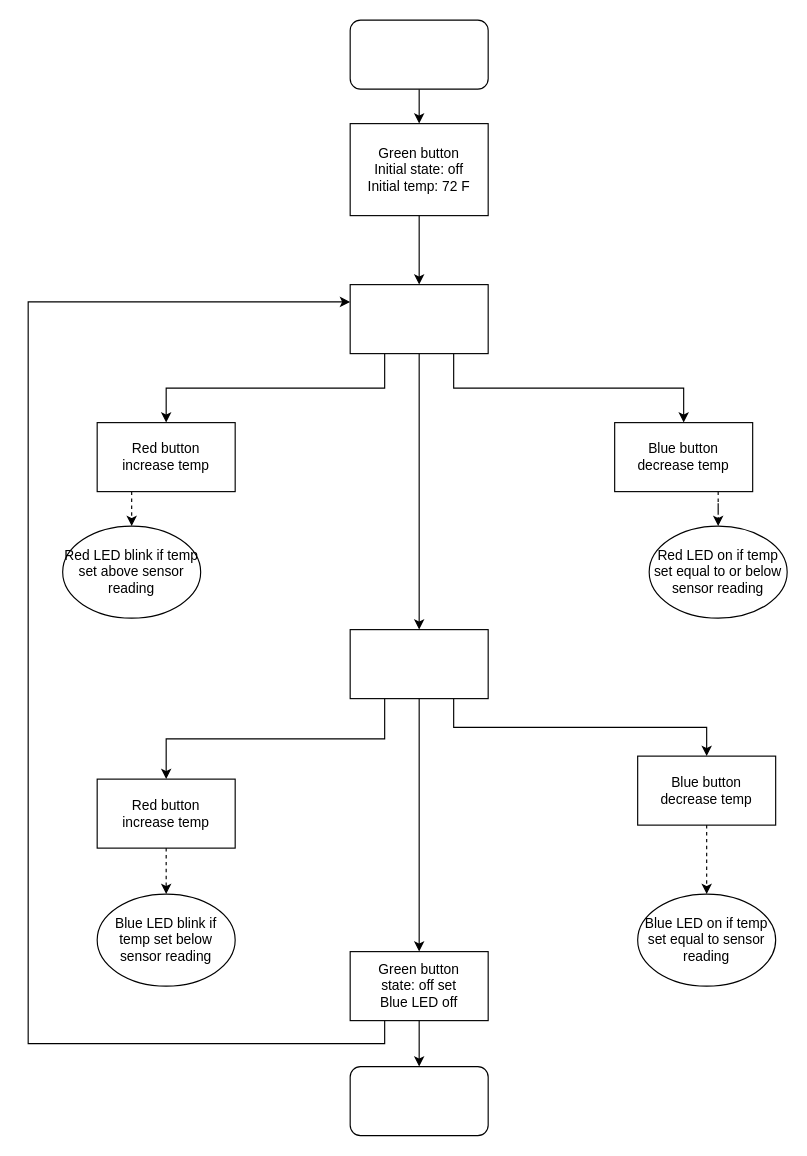
This 807x1156 diagram has some shape labels left out. Each missing label, with the centre of its shape:
"ctr + c" goes at [418,1100].
"Green button state: Cool set Blue LED on Red LED off" goes at [418,663].
"Green button state: Heat set Red LED on" goes at [418,318].
"Sensor reads temp" goes at [418,54].
